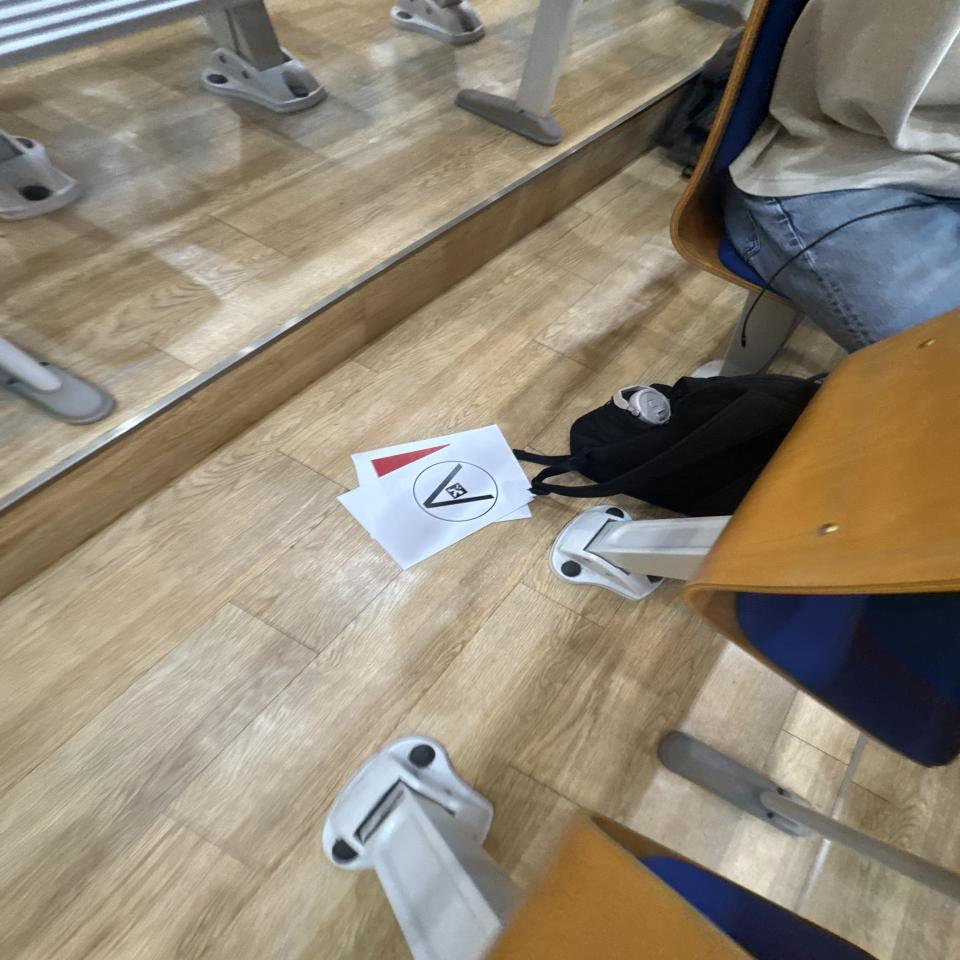vertiport: (403, 452, 506, 528)
